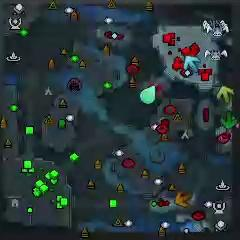p2: (139, 85, 156, 104)
x2: (216, 86, 234, 104)
x3: (184, 56, 200, 72)
x4: (219, 111, 237, 130)
x5: (176, 190, 193, 209)
